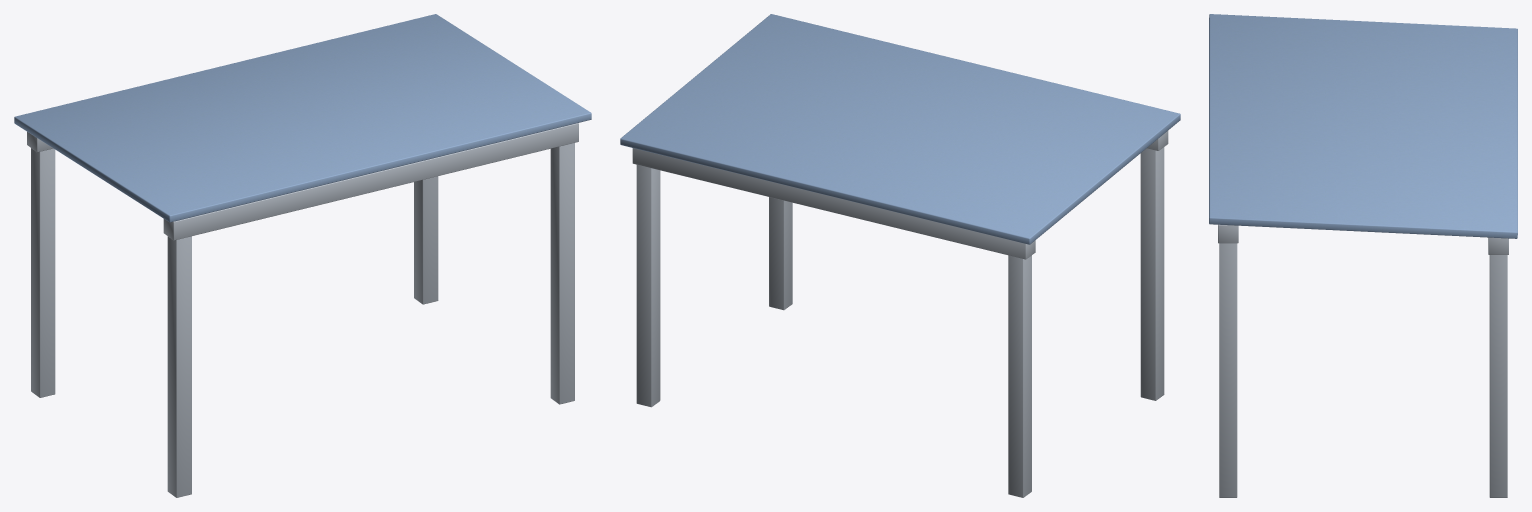
The model's file is festival-truss-c572cef4463c.glb.
3 views of the same model, side by side, from view 1: azimuth 30°, elevation 25°; view 2: azimuth 150°, elevation 25°; view 3: azimuth 270°, elevation 25° (orthographic). The views are drawn at different scales.
Visible parts, largest first — view 1: Canopy_Tarp, Mesh_Truss_Aluminum; view 2: Canopy_Tarp, Mesh_Truss_Aluminum; view 3: Canopy_Tarp, Mesh_Truss_Aluminum.
Part boxes in pixels (box(x1,y1,x2,y2)): Canopy_Tarp: box(14, 14, 591, 222); Mesh_Truss_Aluminum: box(27, 123, 578, 497); Canopy_Tarp: box(620, 14, 1180, 244); Mesh_Truss_Aluminum: box(632, 130, 1168, 497); Canopy_Tarp: box(1209, 14, 1517, 238); Mesh_Truss_Aluminum: box(1218, 224, 1508, 497).
Size of the model in its own units: 7.5 by 4.9 by 4.8.
Materials: 2 (1 with a texture image).
